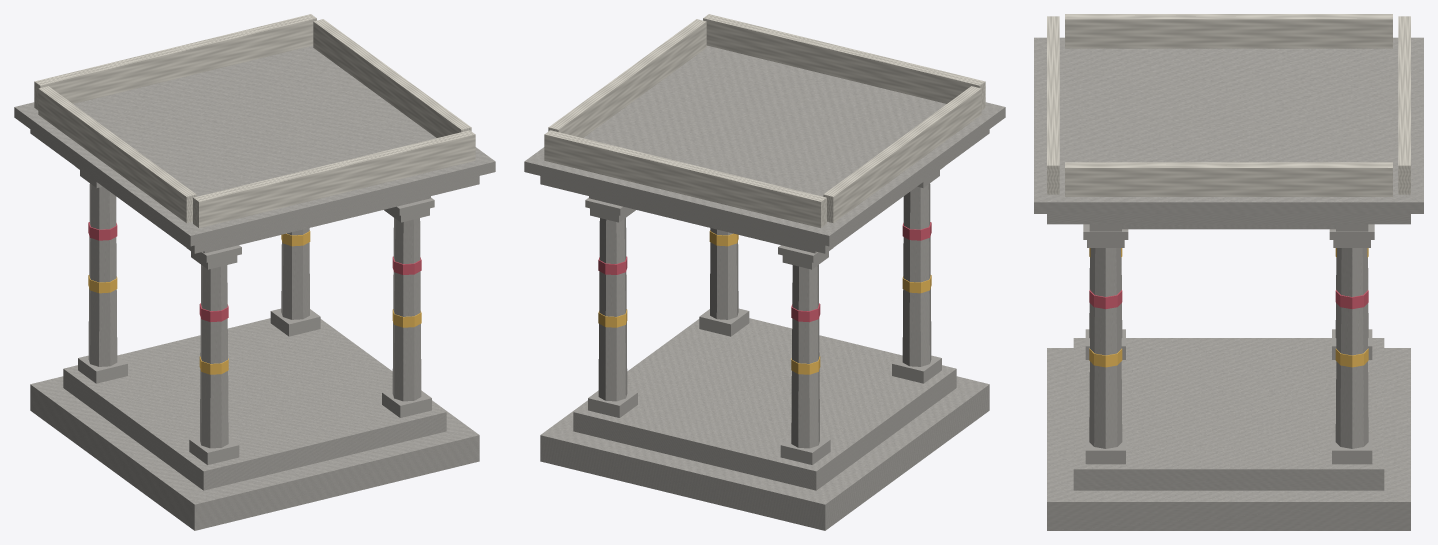
The model's file is 017_Pillared_Porch_Indian_Bazaar_Street_and_Temple.glb.
3 renders of one model, left to right at view 1: azimuth 30°, elevation 25°; view 2: azimuth 150°, elevation 25°; view 3: azimuth 270°, elevation 25°, orthographic. The views are drawn at different scales.
Parts seen in each view (by area): view 1: pillared-porch-stone, pillared-porch-plaster, pillared-porch-saffron, pillared-porch-crimson; view 2: pillared-porch-stone, pillared-porch-plaster, pillared-porch-saffron, pillared-porch-crimson; view 3: pillared-porch-stone, pillared-porch-plaster, pillared-porch-saffron, pillared-porch-crimson.
Part boxes in pixels (x1,y1,x2,y2): pillared-porch-stone: (14,45,495,530); pillared-porch-plaster: (34,14,475,227); pillared-porch-saffron: (88,230,421,374); pillared-porch-crimson: (88,222,421,322); pillared-porch-stone: (524,45,1005,530); pillared-porch-plaster: (544,14,985,227); pillared-porch-saffron: (598,230,931,374); pillared-porch-crimson: (598,222,931,322); pillared-porch-stone: (1034,37,1423,530); pillared-porch-plaster: (1047,14,1410,196); pillared-porch-saffron: (1089,248,1368,367); pillared-porch-crimson: (1089,290,1368,309).
Size of the model in its own units: 3.64 by 3.74 by 3.64.
Materials: 4 (2 with a texture image).
